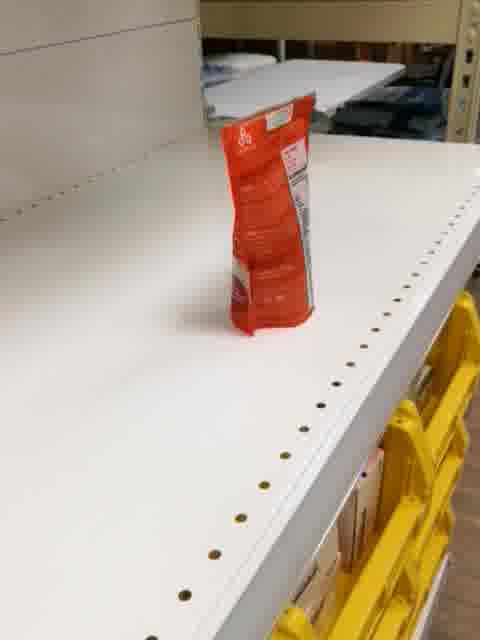whitechia: (220, 86, 319, 339)
